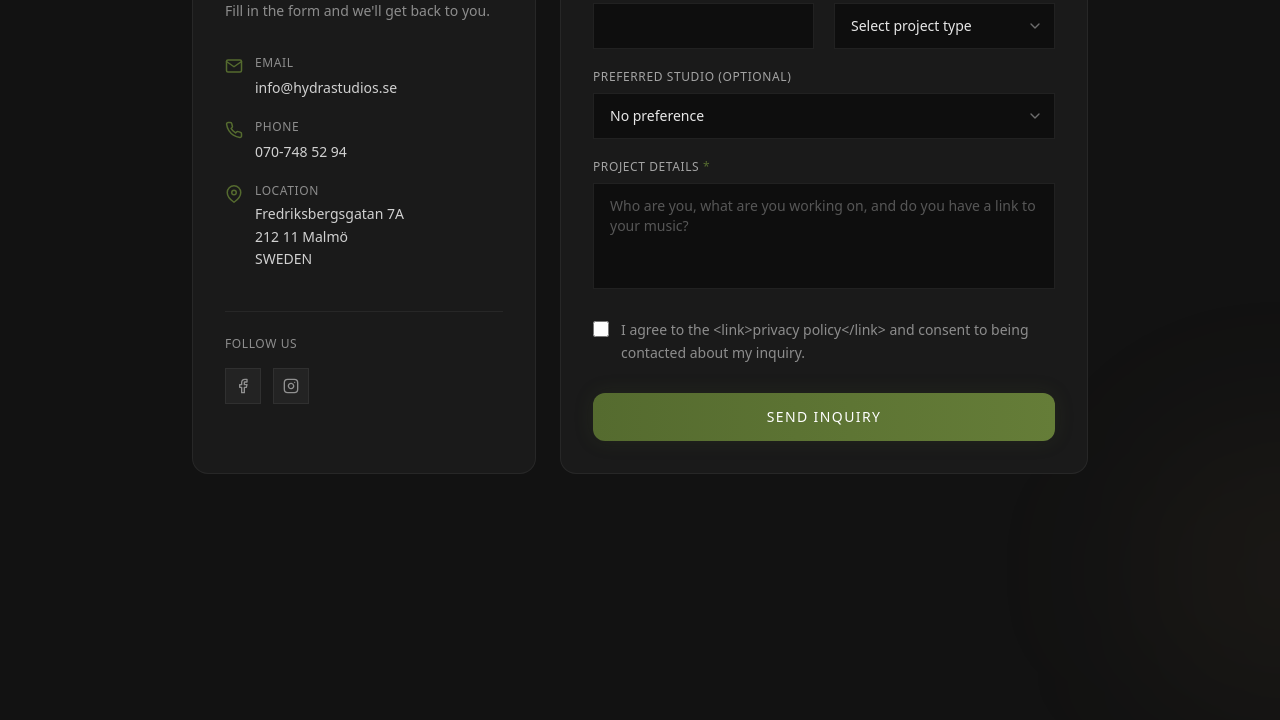
Test: ContactSection › shows validation errors when submitting empty form
(page scrolled)
Click the button "Send Inquiry". click: (824, 416)
box: [593,392,1055,440]
(page scrolled)
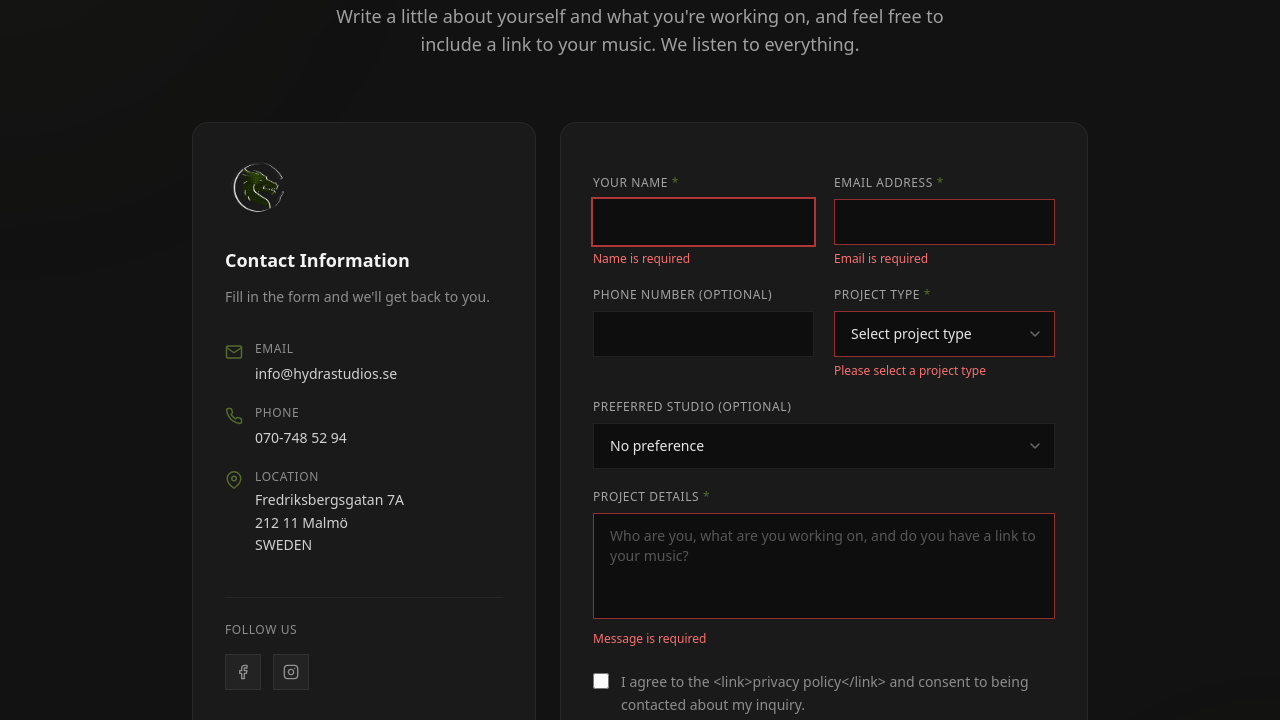
Check: the text "Name is required" is shown, box [593,250,690,267]
Check: the text "Email is required" is shown, box [834,250,928,267]
Check: the text "Please select a project type" is shown, box [834,362,986,379]
